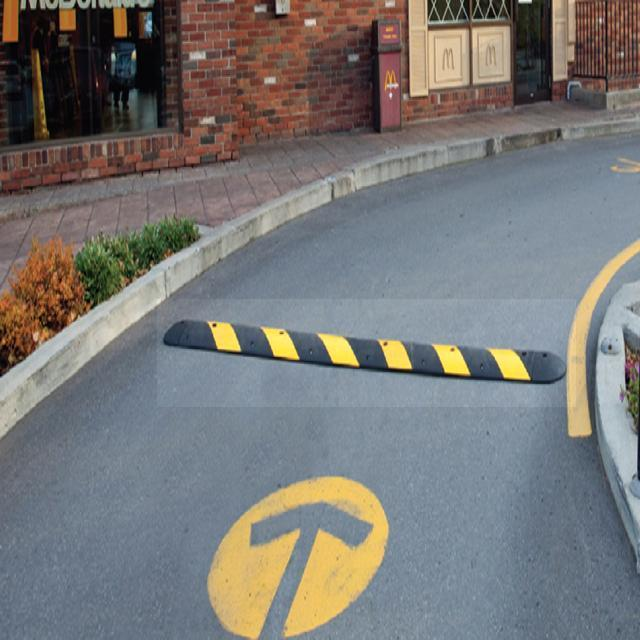Marked Bump: (177, 303, 575, 402)
